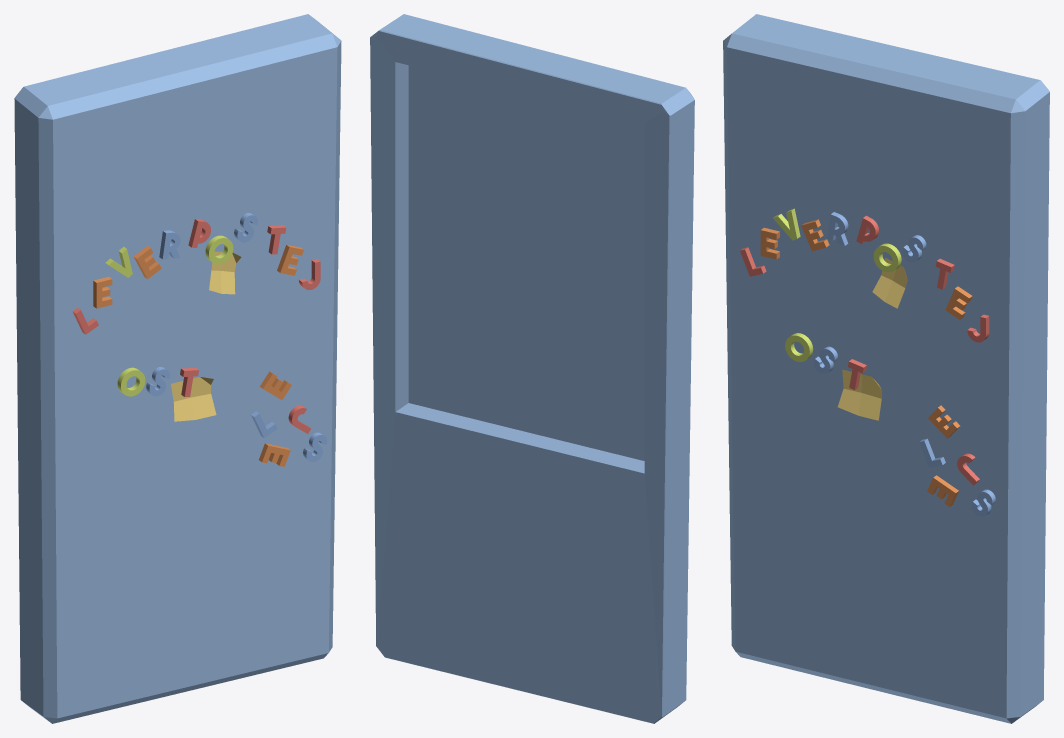
Rendered from fridge_door.fbx.
3 views of the same model, side by side, from view 1: azimuth 30°, elevation 25°; view 2: azimuth 150°, elevation 25°; view 3: azimuth 330°, elevation 25° (orthographic).
Visible parts, largest first — view 1: Cube.078; view 2: Cube.078; view 3: Cube.078.
Part boxes in pixels (x1,y1,x2,y2): Cube.078: [14, 14, 341, 723]; Cube.078: [370, 14, 694, 723]; Cube.078: [723, 14, 1049, 723].
Bounding box in the file's own units: 215 × 426 × 45.29.
